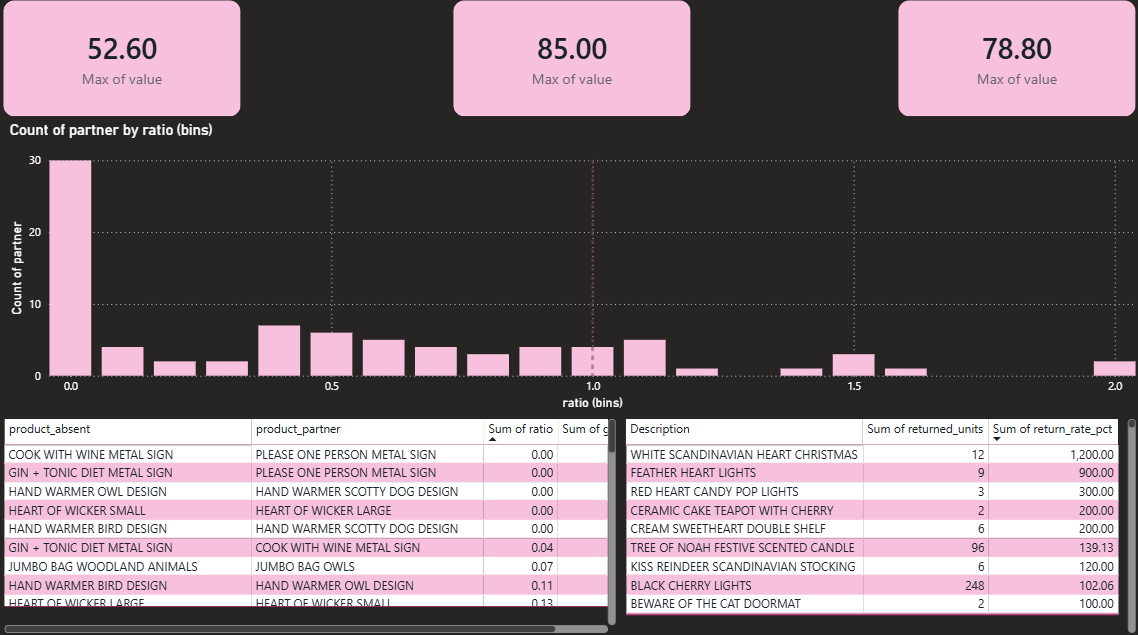

Layout of this report page (visuals, bound fields, positions):
{"tool":"powerbi","page":{"name":"Cost of a stockout","canvas":[1280,720],"ordinal":2},"visuals":[{"type":"tableEx","fields":{"Values":["fact_pullthrough_detail.product_absent","fact_pullthrough_detail.product_partner","Sum(fact_pullthrough_detail.ratio)","Sum(fact_pullthrough_detail.gap_weeks)"]},"box":[0,469.8,696.9,249.6],"z":0},{"type":"cardVisual","fields":{"Data":["Max(summary_pullthrough.value)"]},"box":[0,0,276.2,140.2],"z":1000},{"type":"cardVisual","fields":{"Data":["Max(summary_pullthrough.value)"]},"box":[504.8,0,276.2,140.2],"z":2000},{"type":"cardVisual","fields":{"Data":["Max(summary_pullthrough.value)"]},"box":[1004,0,276.2,140.2],"z":3000},{"type":"clusteredColumnChart","fields":{"Category":["fact_pullthrough_detail.ratio (bins)"],"Y":["CountNonNull(fact_pullthrough_detail.partner)"]},"box":[7,140.2,1273.3,329.5],"z":4000},{"type":"tableEx","fields":{"Values":["fact_returns.Description","Sum(fact_returns.returned_units)","Sum(fact_returns.return_rate_pct)"]},"box":[696.9,469.8,583.3,249.6],"z":5000}]}

Visuals, with their boxes in screenshot pixels (x1, y1, x2, y2), scaled from the page's 1280x720 canvas onto the 1138x635 screenshot:
tableEx - fact_pullthrough_detail.product_absent x fact_pullthrough_detail.product_partner: (x1=0, y1=414, x2=620, y2=634)
cardVisual - Max(summary_pullthrough.value): (x1=0, y1=0, x2=246, y2=124)
cardVisual - Max(summary_pullthrough.value): (x1=449, y1=0, x2=694, y2=124)
cardVisual - Max(summary_pullthrough.value): (x1=893, y1=0, x2=1137, y2=124)
clusteredColumnChart - fact_pullthrough_detail.ratio (bins) x CountNonNull(fact_pullthrough_detail.partner): (x1=6, y1=124, x2=1137, y2=414)
tableEx - fact_returns.Description x Sum(fact_returns.returned_units): (x1=620, y1=414, x2=1137, y2=634)
